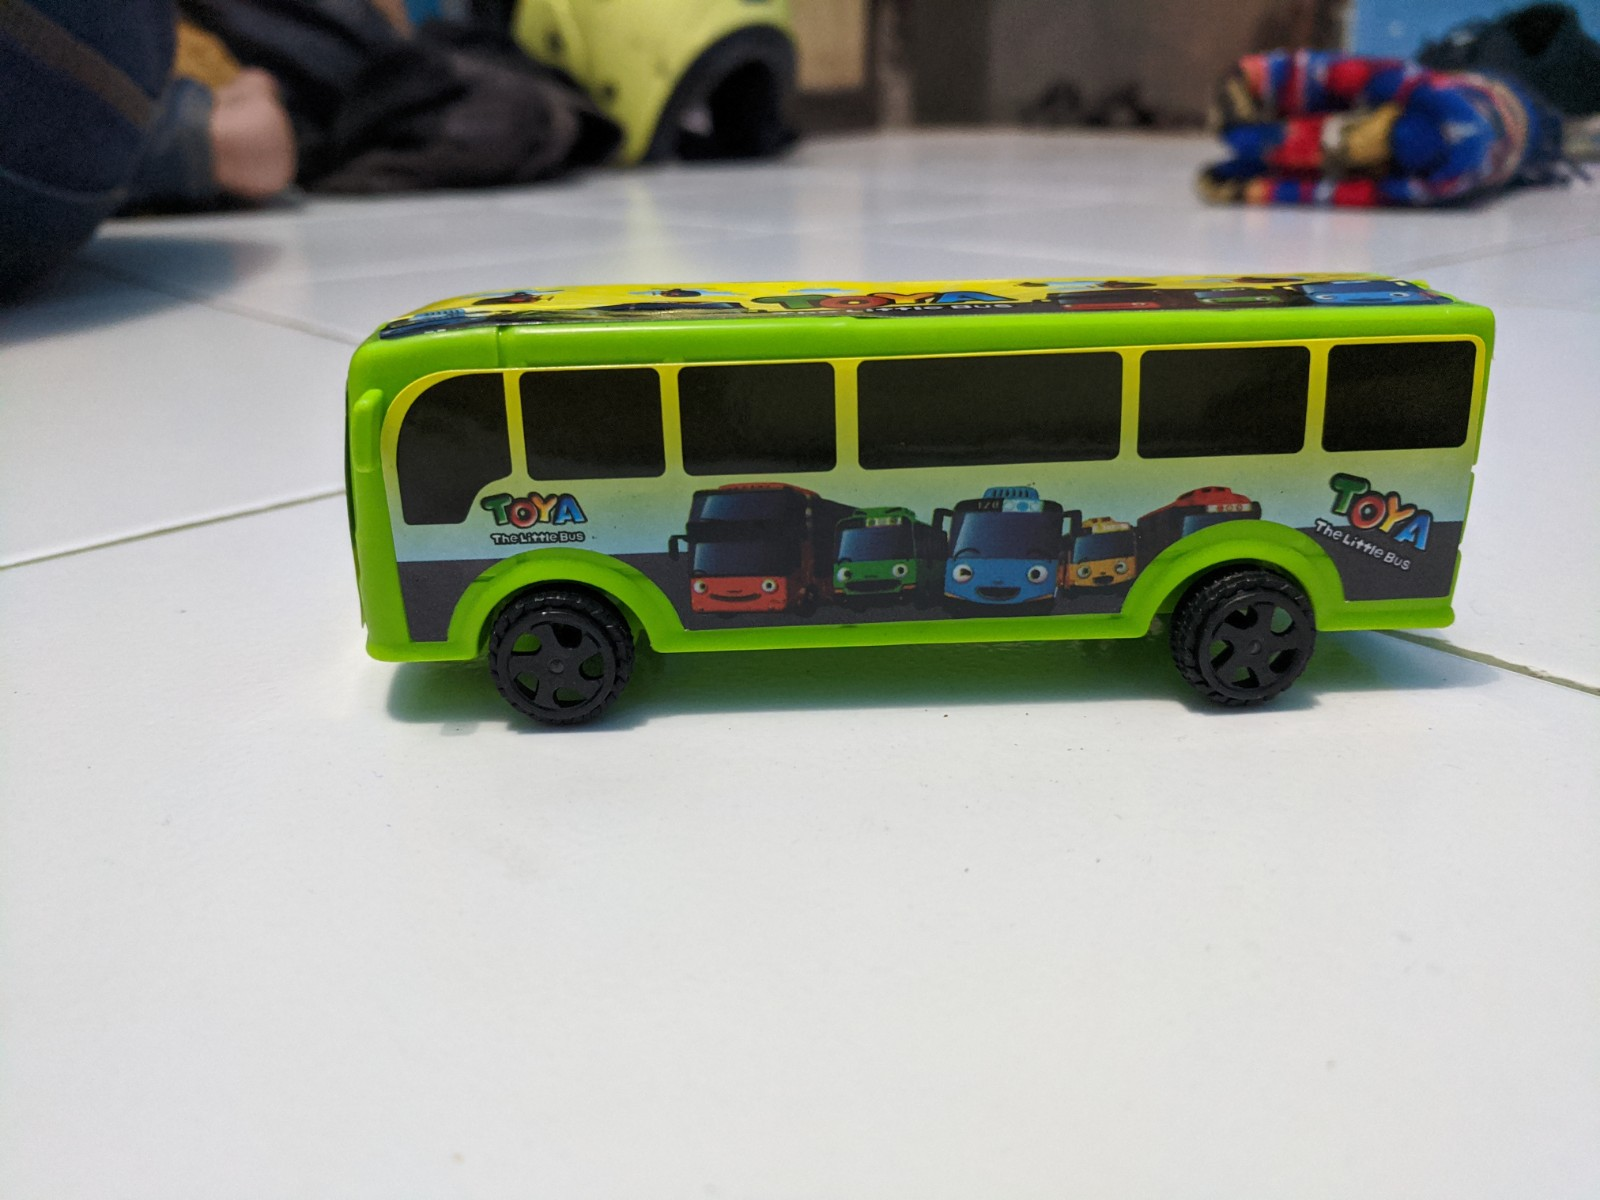bus: (346, 305, 1506, 729)
